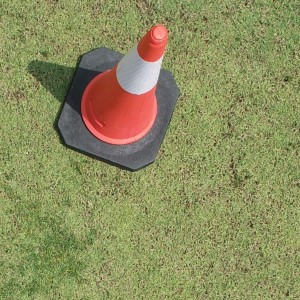traffic cone: (56, 24, 179, 171)
